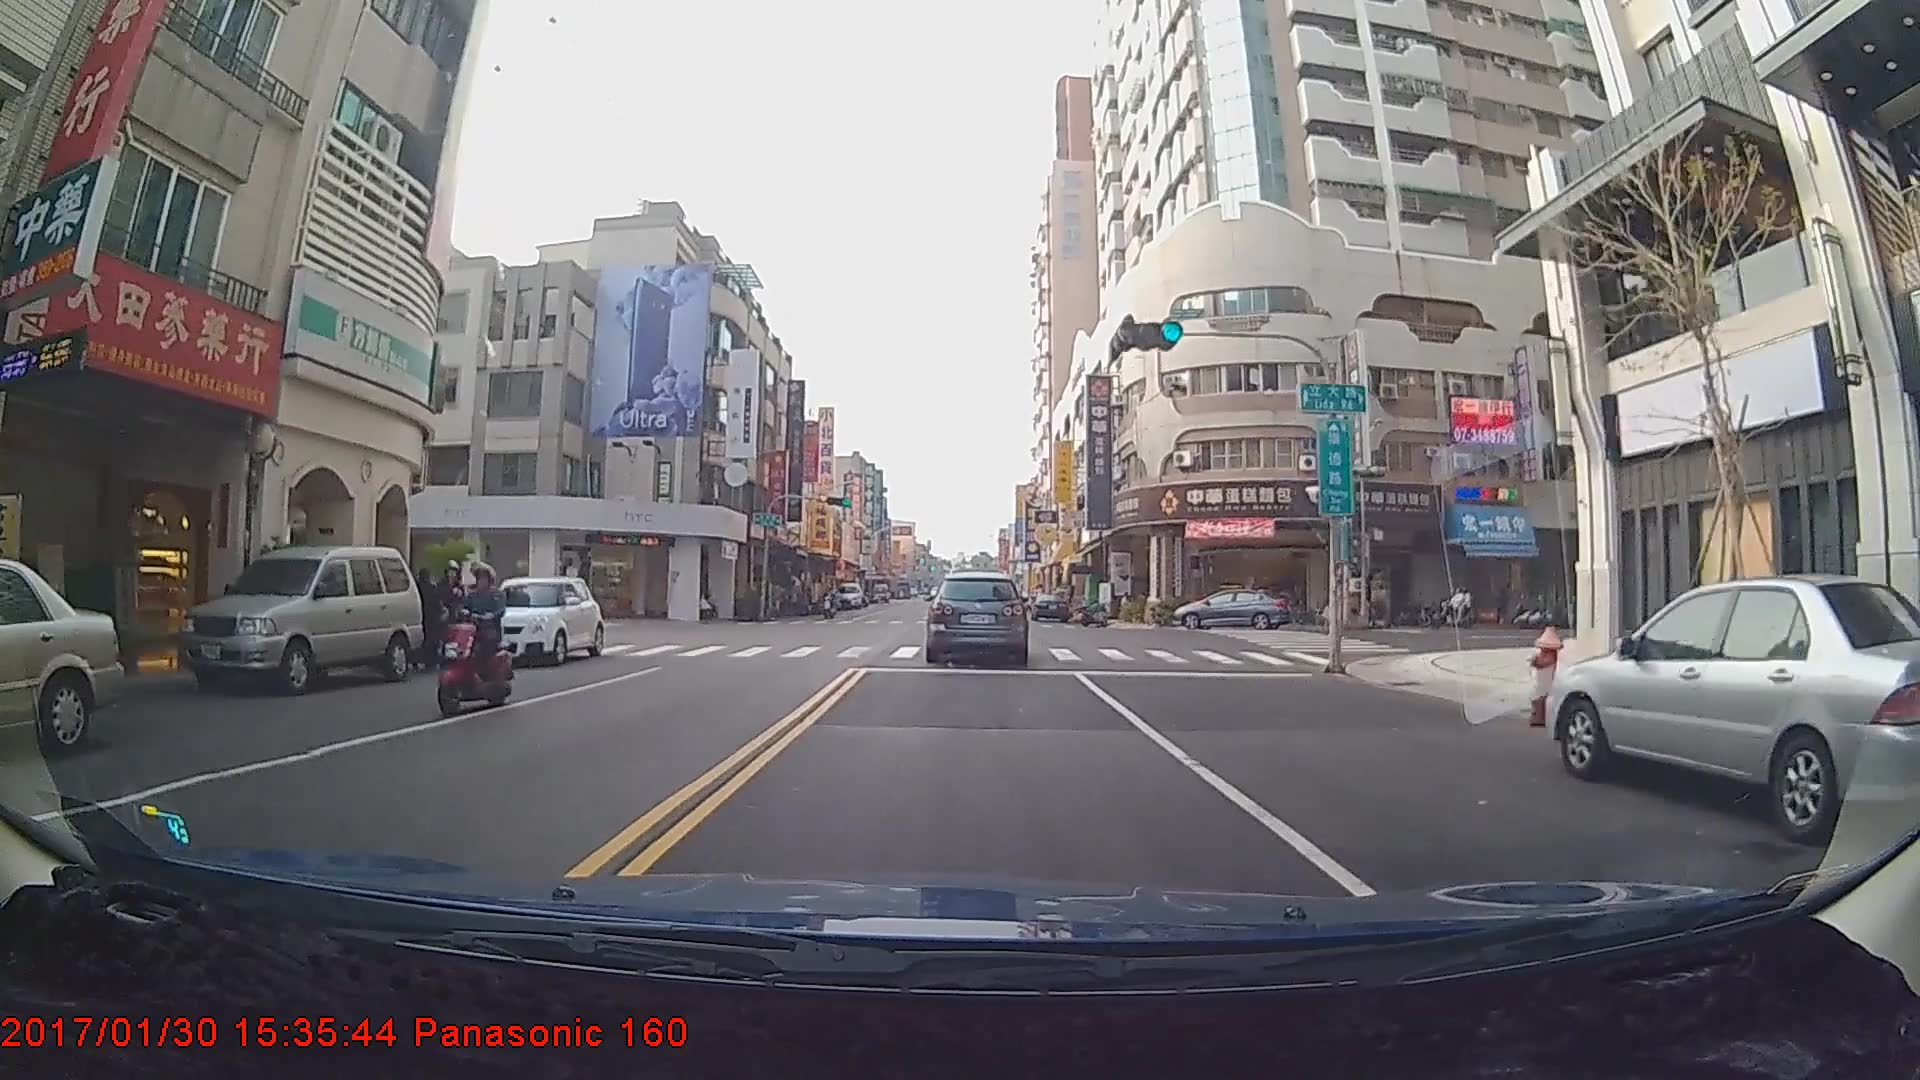rider: (431, 563, 519, 719), (1427, 582, 1475, 631), (815, 589, 842, 626)
vehicle: (1542, 573, 1918, 847), (176, 545, 424, 693), (0, 550, 123, 762), (466, 575, 602, 666), (925, 573, 1025, 663), (1176, 585, 1293, 633), (1031, 590, 1070, 620), (836, 580, 862, 609)
